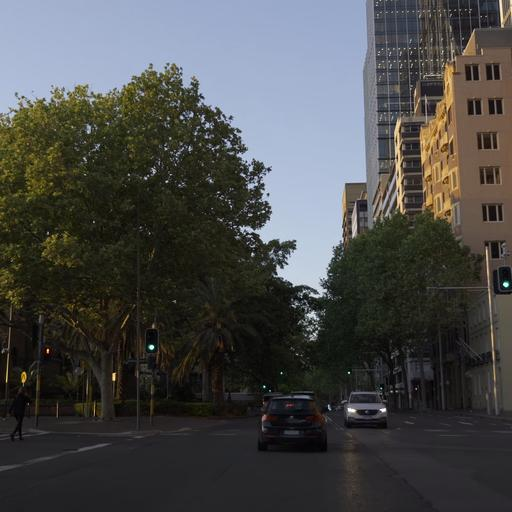Street light: (425, 239, 511, 415), (144, 327, 158, 354), (497, 265, 511, 292), (41, 344, 52, 360), (346, 368, 350, 375)
